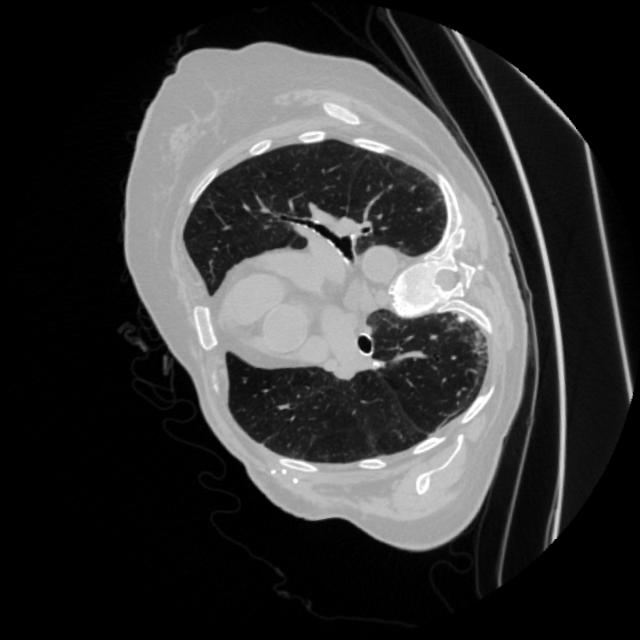nodule: (448, 308, 471, 332)
